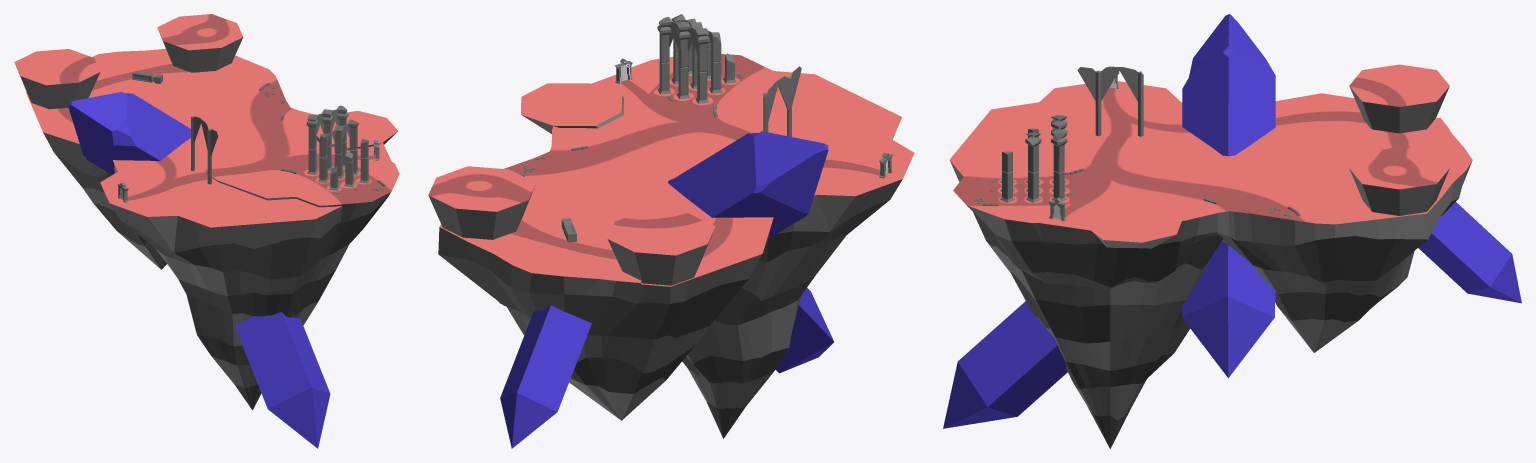
The model's file is island2.fbx.
The picture shows the model from 3 angles, left to right: view 1: azimuth 30°, elevation 25°; view 2: azimuth 150°, elevation 25°; view 3: azimuth 270°, elevation 25°; orthographic projection. The views are drawn at different scales.
Visible parts, largest first — view 1: island2_grass_road, island2_rocks, island2_crystals, island2_coluna, island2_fachada; view 2: island2_grass_road, island2_rocks, island2_crystals, island2_coluna, island2_fachada; view 3: island2_grass_road, island2_rocks, island2_crystals, island2_coluna, island2_fachada.
Boxes of the visible parts, <box> form: island2_grass_road: <box>14,14,399,227</box>; island2_rocks: <box>15,32,397,410</box>; island2_crystals: <box>68,92,330,448</box>; island2_coluna: <box>306,105,369,190</box>; island2_fachada: <box>191,116,218,184</box>; island2_grass_road: <box>428,54,914,286</box>; island2_rocks: <box>428,87,902,438</box>; island2_crystals: <box>500,131,833,448</box>; island2_coluna: <box>657,14,736,103</box>; island2_fachada: <box>763,66,801,136</box>; island2_grass_road: <box>949,64,1472,242</box>; island2_rocks: <box>950,86,1471,448</box>; island2_crystals: <box>943,14,1521,428</box>; island2_coluna: <box>1000,115,1067,202</box>; island2_fachada: <box>1077,66,1143,136</box>.
Size of what is drawn, in the model's own units: 7689 by 7681 by 11210.
